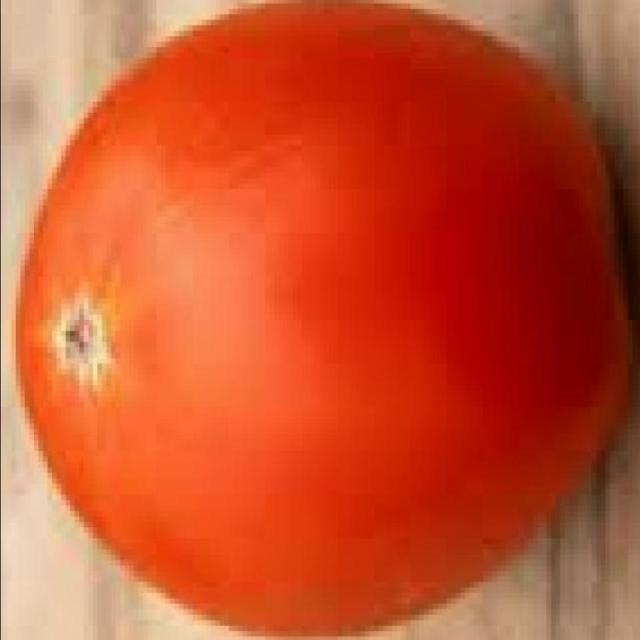Healthy Fruit: (1, 20, 427, 427)
